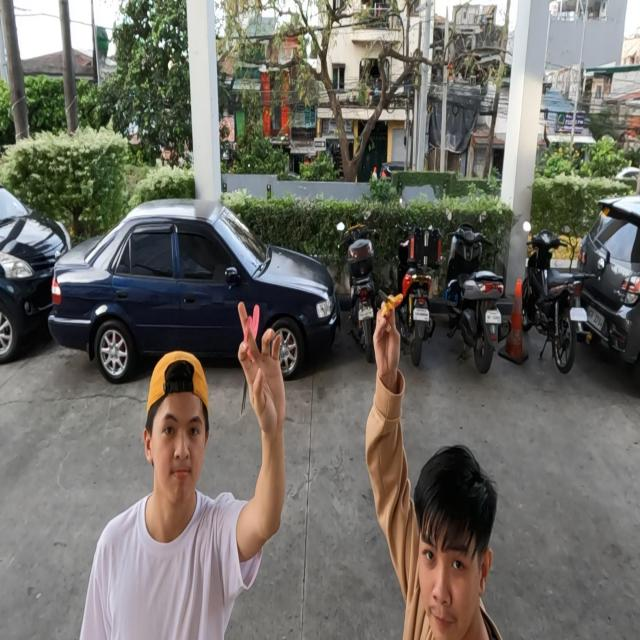scissor: (240, 304, 260, 417)
